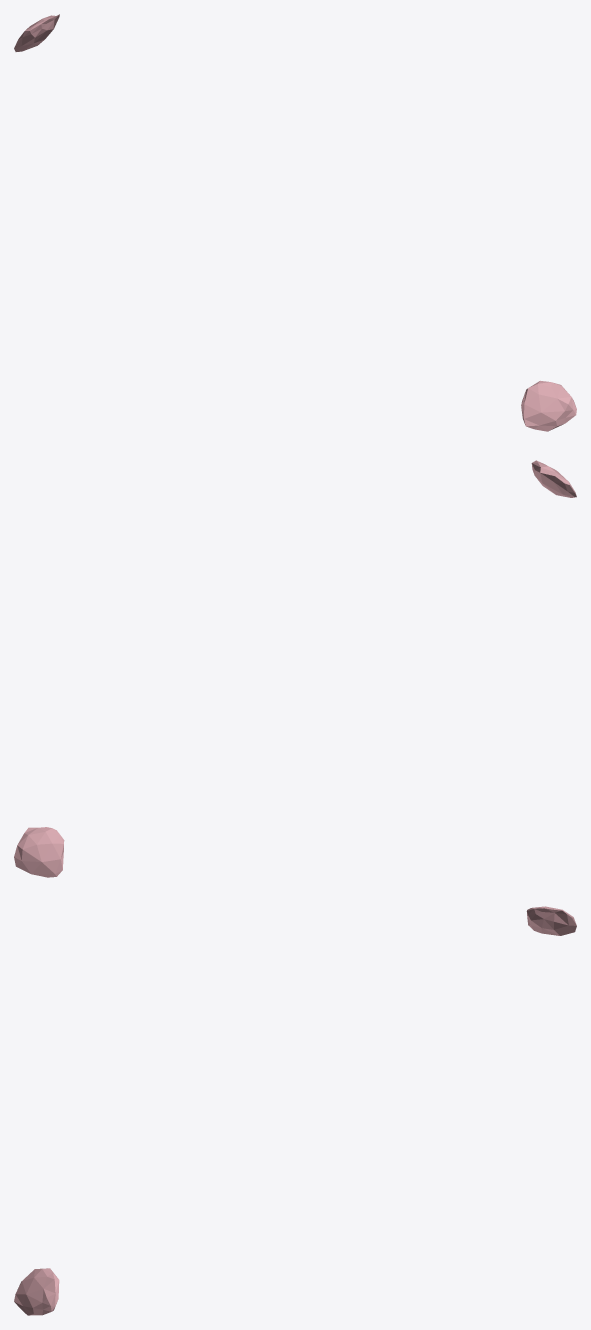
3 views of the same model, one above another, from view 1: azimuth 30°, elevation 25°; view 2: azimuth 150°, elevation 25°; view 3: azimuth 330°, elevation 25° (orthographic).
Parts seen in each view (by area): view 1: 563807439.obj; view 2: 563807439.obj; view 3: 563807439.obj.
Boxes of the visible parts, bbox=[...] form: 563807439.obj: bbox=[14, 14, 576, 431]; 563807439.obj: bbox=[14, 460, 576, 877]; 563807439.obj: bbox=[14, 906, 576, 1315].
Bounding box in the file's own units: 250 × 196 × 4864.
